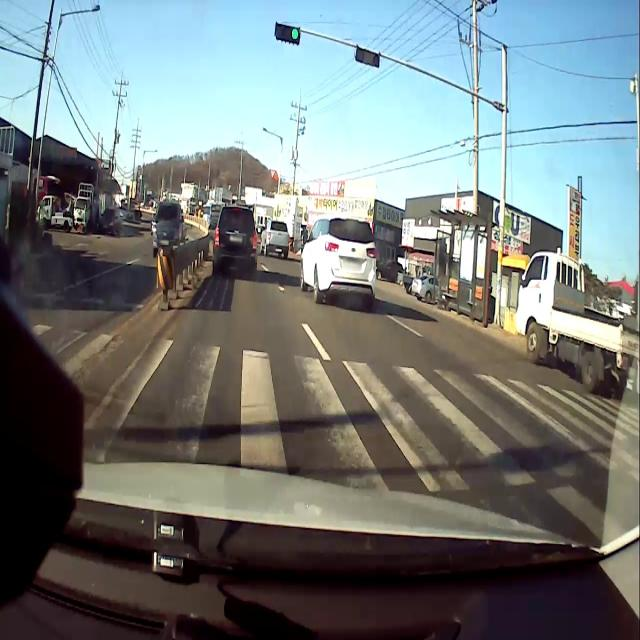Green Light: (290, 24, 300, 43)
